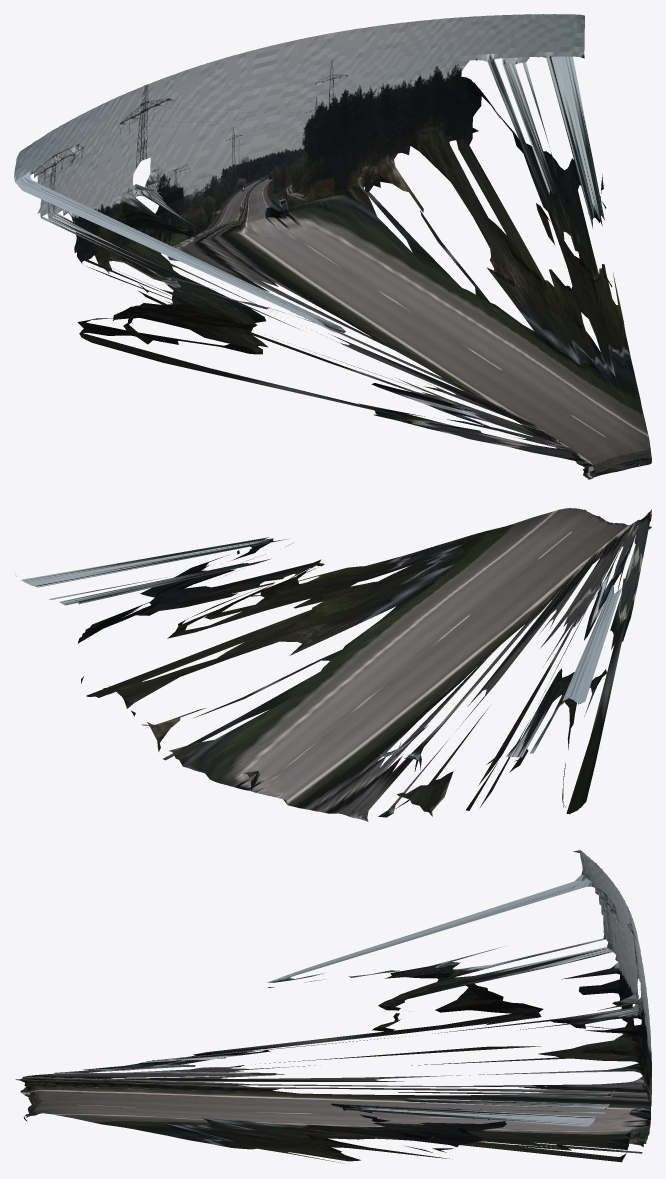
3 renders of one model, top to bottom at view 1: azimuth 30°, elevation 25°; view 2: azimuth 150°, elevation 25°; view 3: azimuth 270°, elevation 25°, orthographic. The views are drawn at different scales.
Parts seen in each view (by area): view 1: defaultobject; view 2: defaultobject; view 3: defaultobject.
Part boxes in pixels (left/top/right/bottom): defaultobject: left=14, top=14, right=651, bottom=479; defaultobject: left=16, top=508, right=651, bottom=821; defaultobject: left=15, top=850, right=651, bottom=1163.
Bounding box in the file's own units: 40.8 × 12.78 × 45.15.
Materials: 1 (1 with a texture image).
